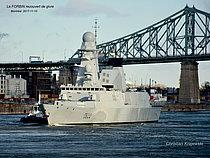MIL_Ship: (36, 28, 165, 127)
